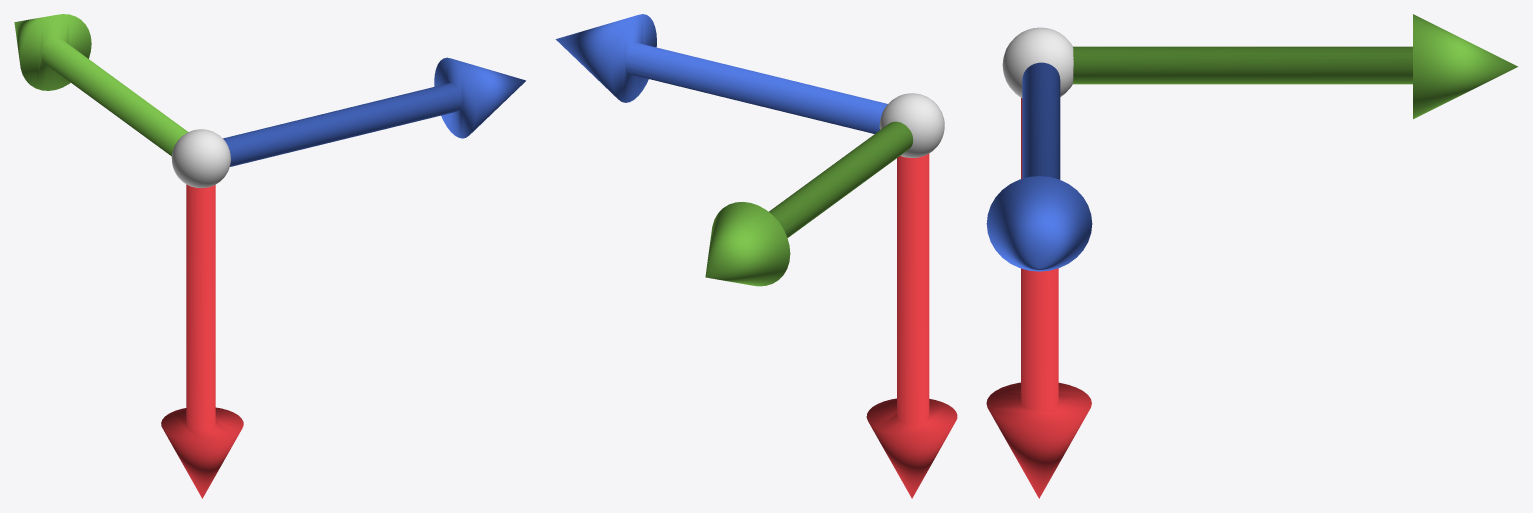
File: Viewpoint.fbx
3 views of the same model, side by side, from view 1: azimuth 30°, elevation 25°; view 2: azimuth 150°, elevation 25°; view 3: azimuth 270°, elevation 25° (orthographic). The views are drawn at different scales.
Parts seen in each view (by area): view 1: AX_X, AX_Z, AX_Y, Viewpoint; view 2: AX_X, AX_Z, AX_Y, Viewpoint; view 3: AX_Y, AX_Z, AX_X, Viewpoint.
Part boxes in pixels (left/top/right/bottom): AX_X: left=161, top=184, right=243, bottom=498; AX_Z: left=223, top=57, right=525, bottom=166; AX_Y: left=14, top=14, right=187, bottom=156; Viewpoint: left=171, top=129, right=230, bottom=187; AX_X: left=866, top=153, right=957, bottom=498; AX_Z: left=555, top=14, right=887, bottom=133; AX_Y: left=705, top=121, right=913, bottom=286; Viewpoint: left=879, top=93, right=944, bottom=157; AX_Y: left=1073, top=14, right=1517, bottom=119; AX_Z: left=986, top=62, right=1092, bottom=271; AX_X: left=986, top=98, right=1091, bottom=498; Viewpoint: left=1002, top=27, right=1073, bottom=97.
Bounding box in the file's own units: 14.02 × 14.02 × 14.08.
